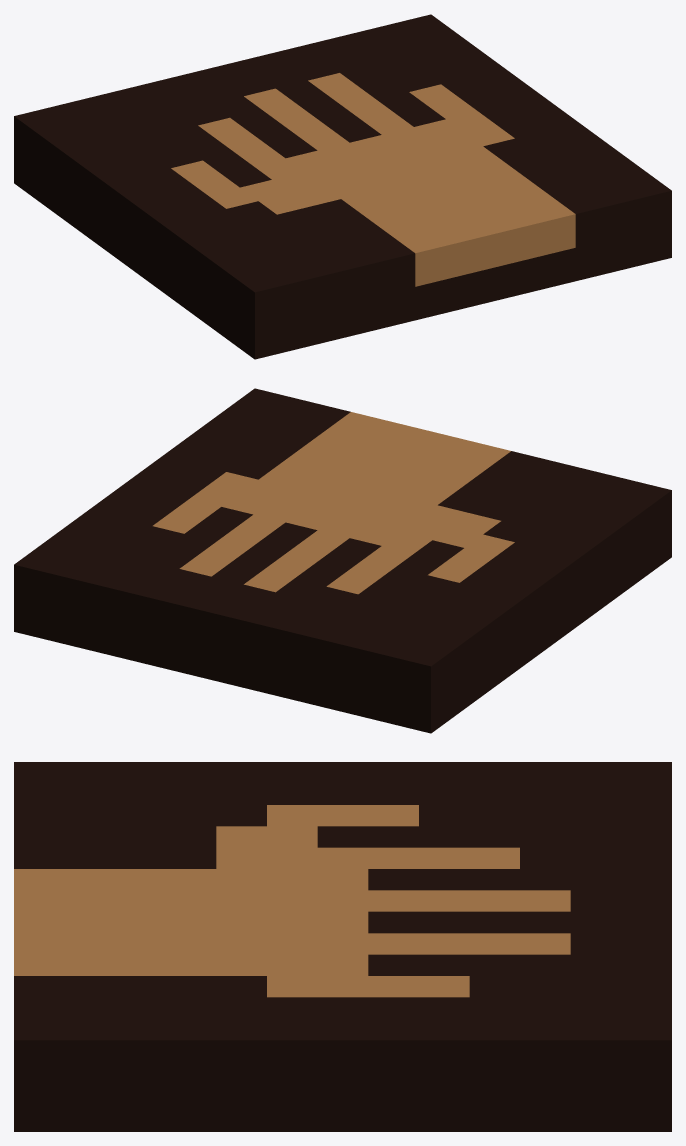
Rendered from HandIcon.obj.
3 renders of one model, top to bottom at view 1: azimuth 30°, elevation 25°; view 2: azimuth 150°, elevation 25°; view 3: azimuth 270°, elevation 25°, orthographic. The views are drawn at different scales.
Bounding box in the file's own units: 1.3 × 0.2 × 1.3.
Materials: 1 (1 with a texture image).
